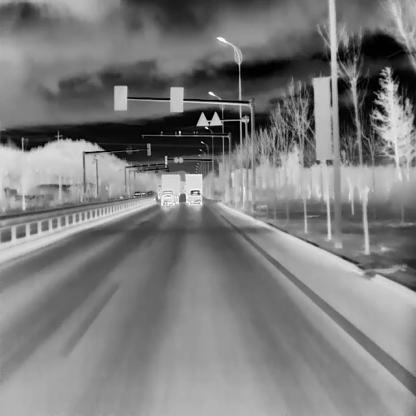car: (161, 174, 178, 203), (186, 173, 202, 203), (161, 190, 174, 206), (188, 189, 201, 205), (146, 190, 154, 198), (157, 183, 161, 198), (140, 190, 147, 197), (134, 191, 141, 197)
